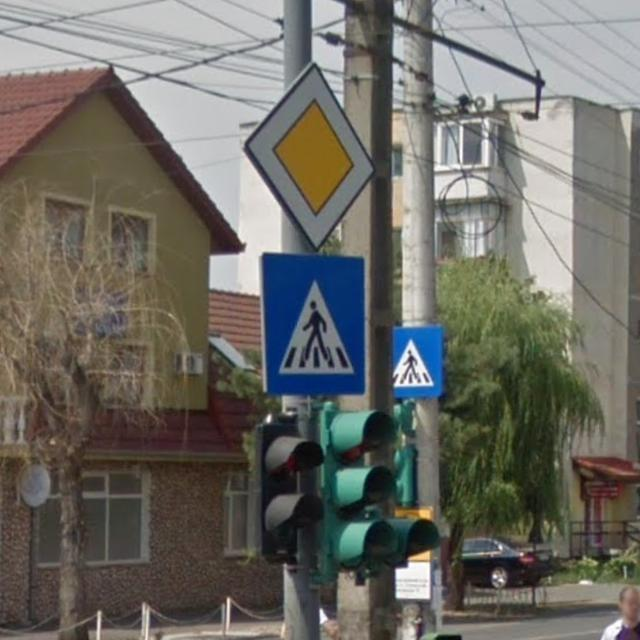info_crosswalk: (260, 253, 366, 396), (390, 326, 443, 396)
